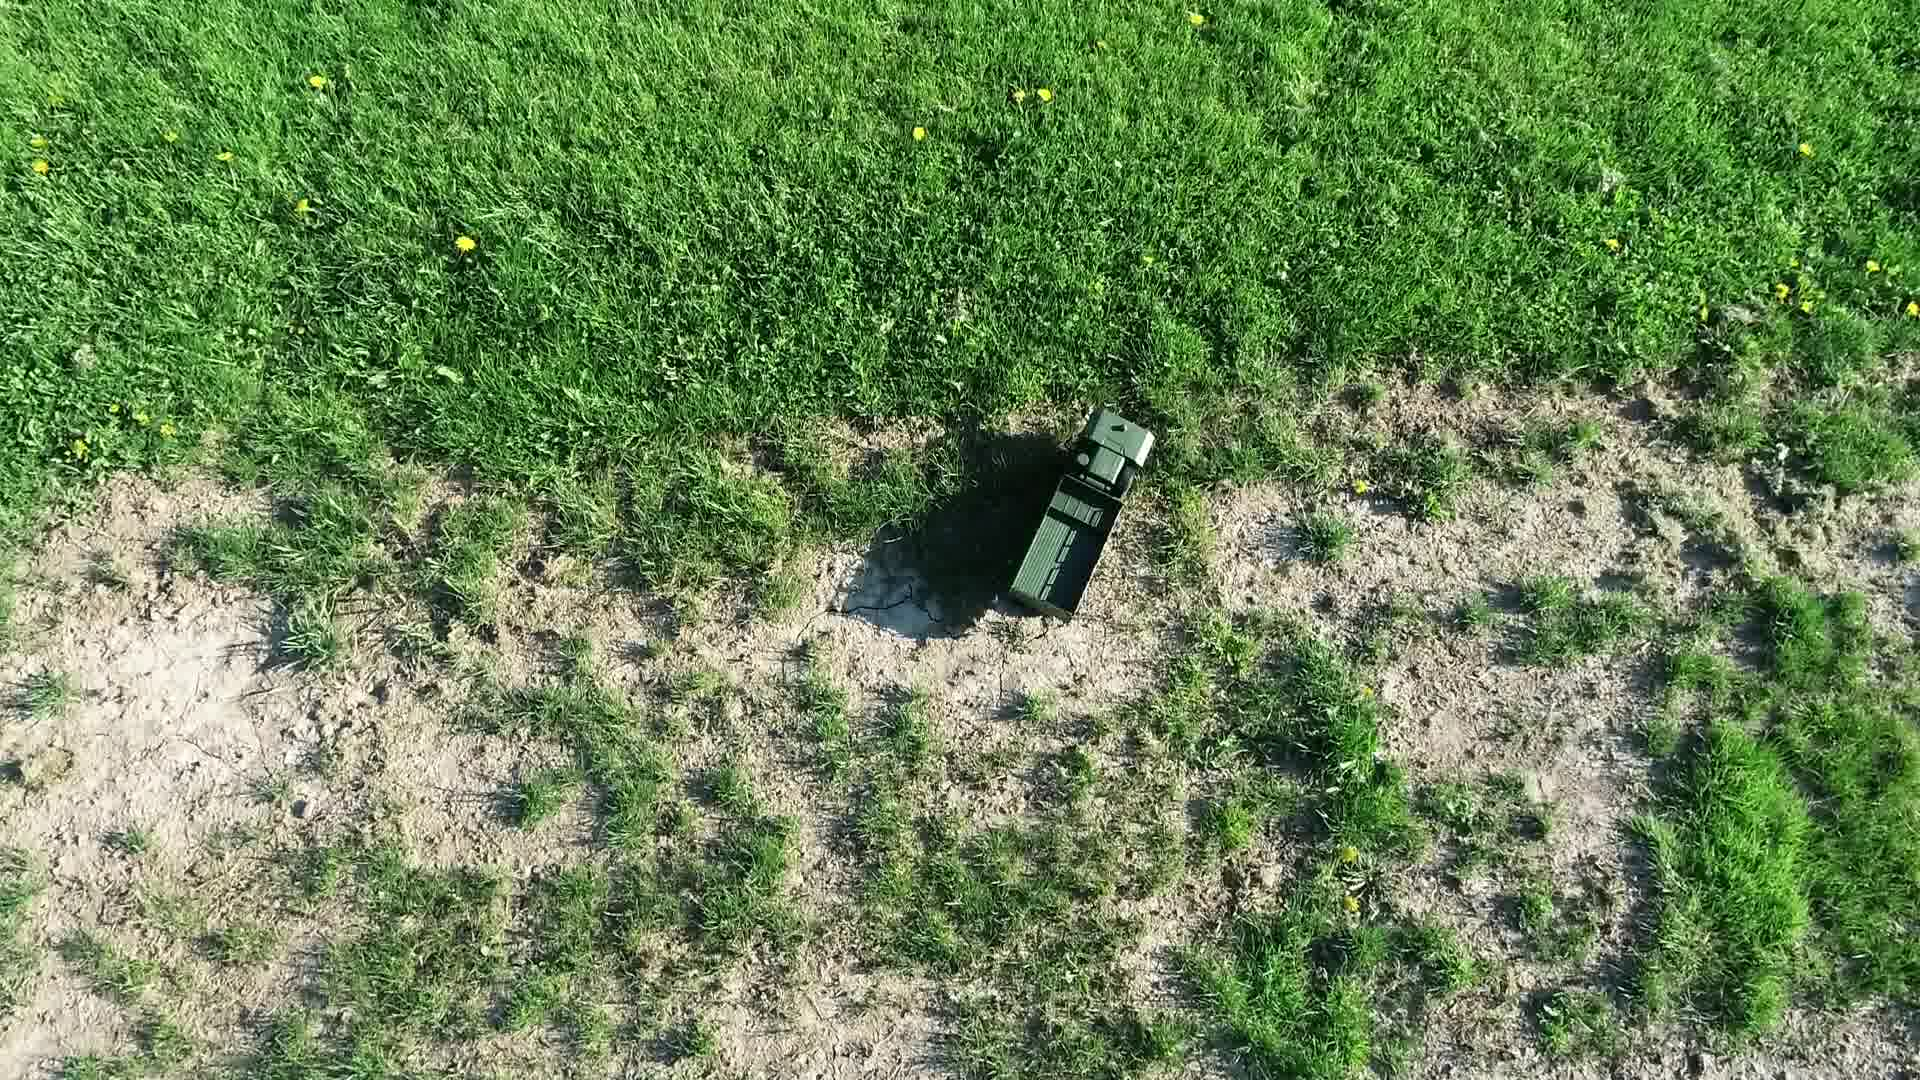transporter9: (978, 404, 1185, 640)
